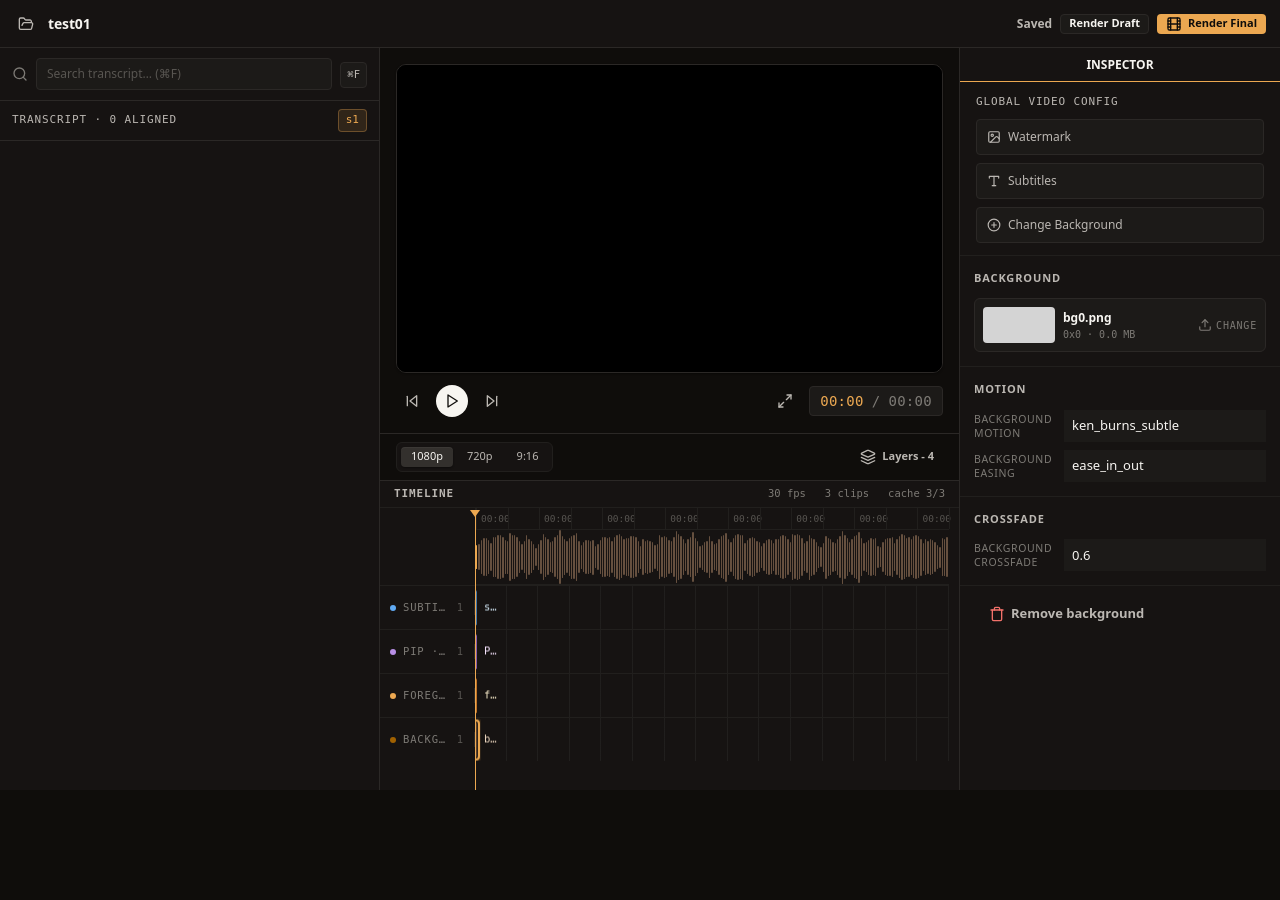
Scenario: shows local invalid cache state immediately after clip edit even when backend cache was warm on load
The width and height of the screenshot is (1280, 900).
Expected: the heading "test01" is shown, left=48, top=13, right=91, bottom=34
Expected: the text "30 fps 3 clips cache 3/3" is shown, left=768, top=486, right=945, bottom=502
Click the button "foreground.png over s1". click: (492, 696)
box: left=476, top=679, right=508, bottom=712
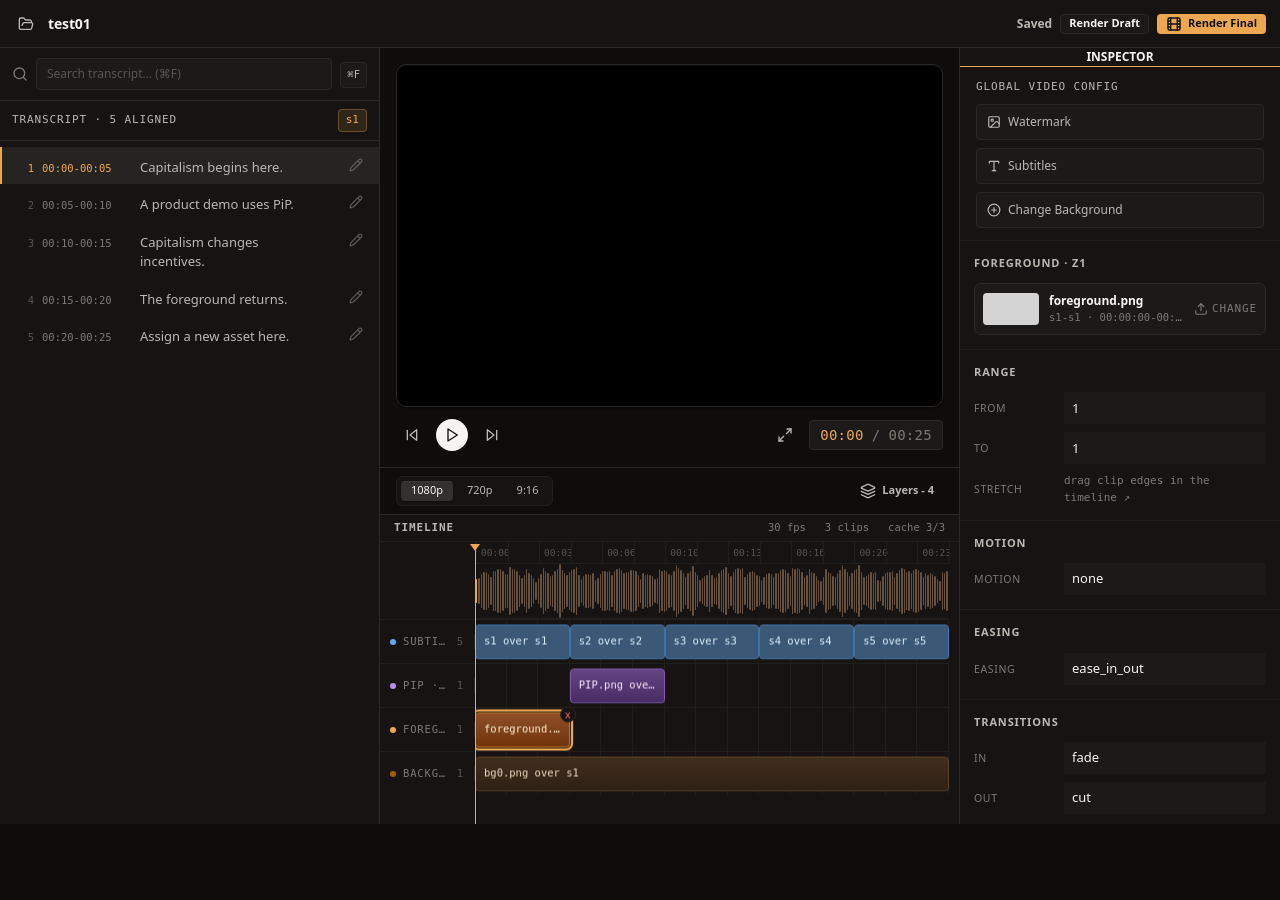
Select "zoom_in" in the dropdown named "Foreground motion". click: (1165, 579)
box: left=1064, top=563, right=1266, bottom=595
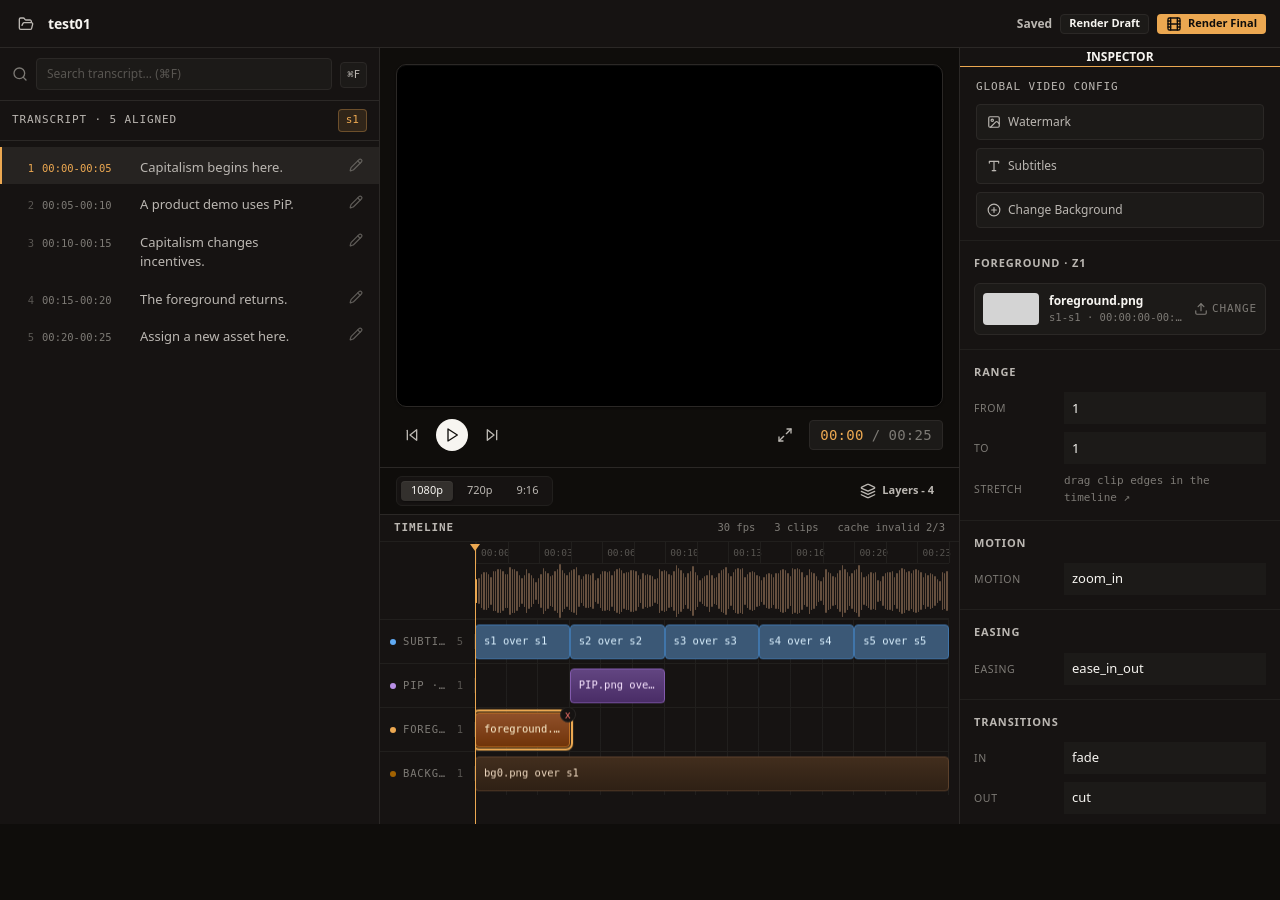
Expected: the text "30 fps 3 clips cache invalid 2/3" is shown, left=717, top=520, right=945, bottom=536
